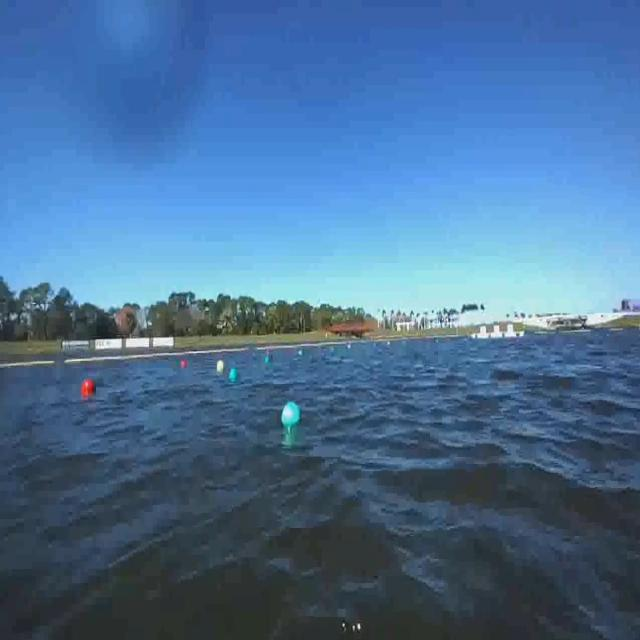green-buoy: (281, 404, 300, 431), (231, 366, 239, 381)
red-buoy: (82, 376, 96, 395), (183, 359, 190, 369)
yellow-buoy: (217, 360, 224, 372)
